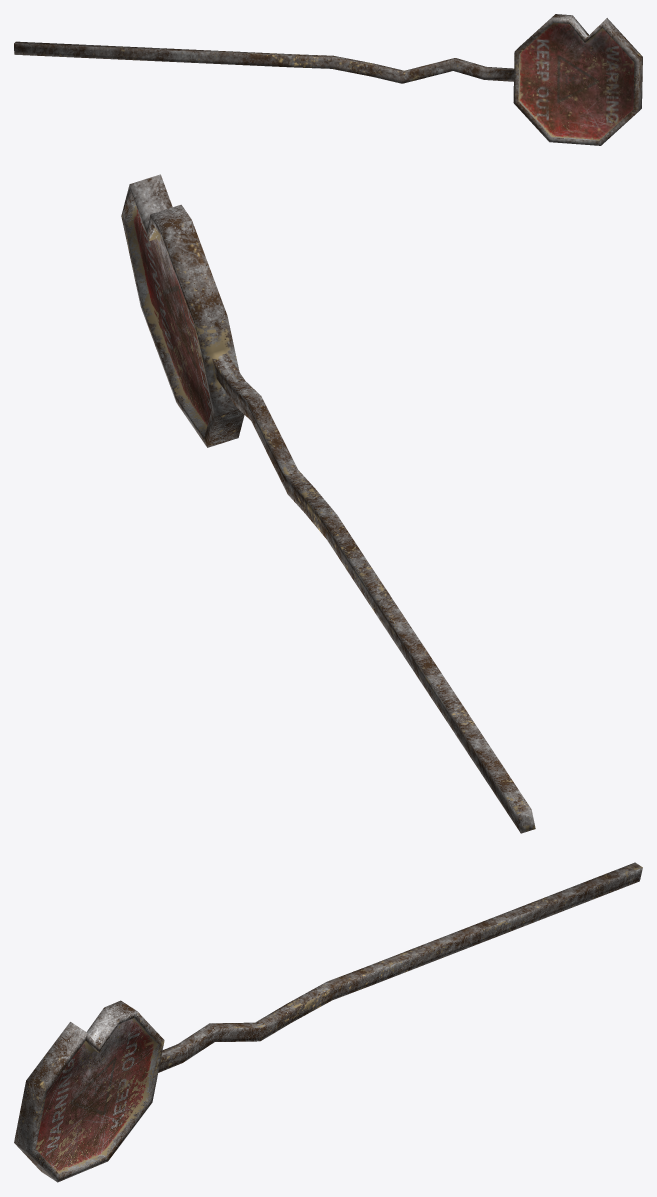
Rendered from Anim_idle_senyal_objetos.0024.obj.
3 views of the same model, one above another, from view 1: azimuth 30°, elevation 25°; view 2: azimuth 150°, elevation 25°; view 3: azimuth 270°, elevation 25° (orthographic). The views are drawn at different scales.
Bounding box in the file's own units: 9.41 × 2.54 × 8.77.
